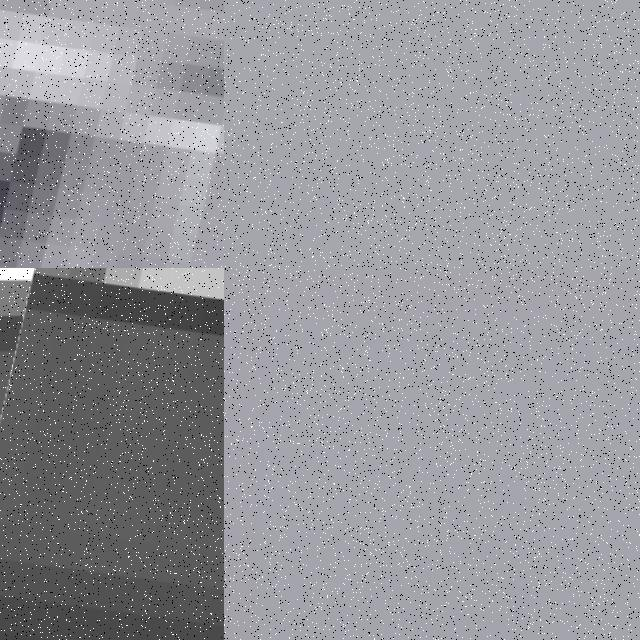drone: (0, 268, 224, 640), (0, 0, 224, 268)
